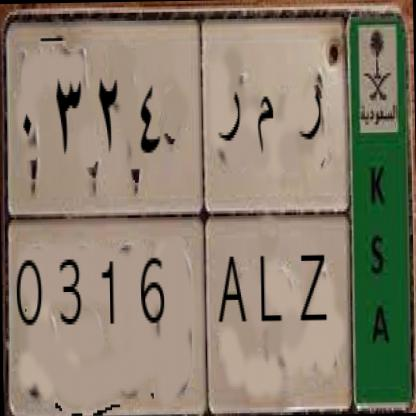english: (6, 206, 354, 414)
